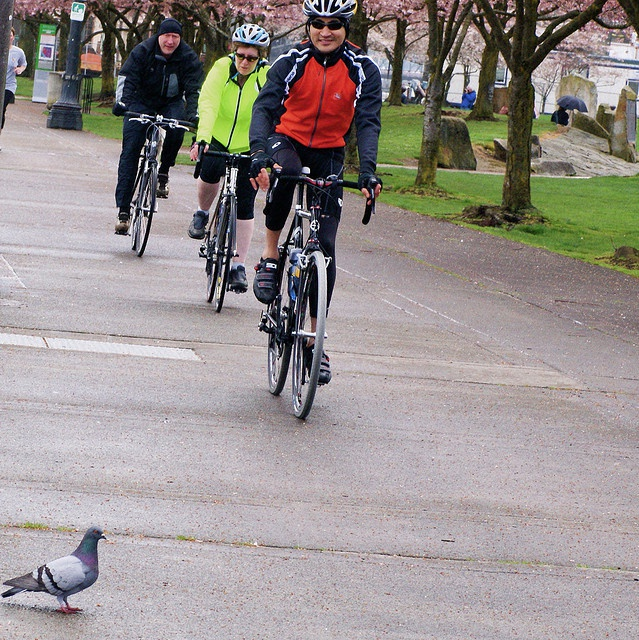non-vehicle: (264, 169, 374, 419), (200, 144, 250, 313), (129, 110, 181, 258)
